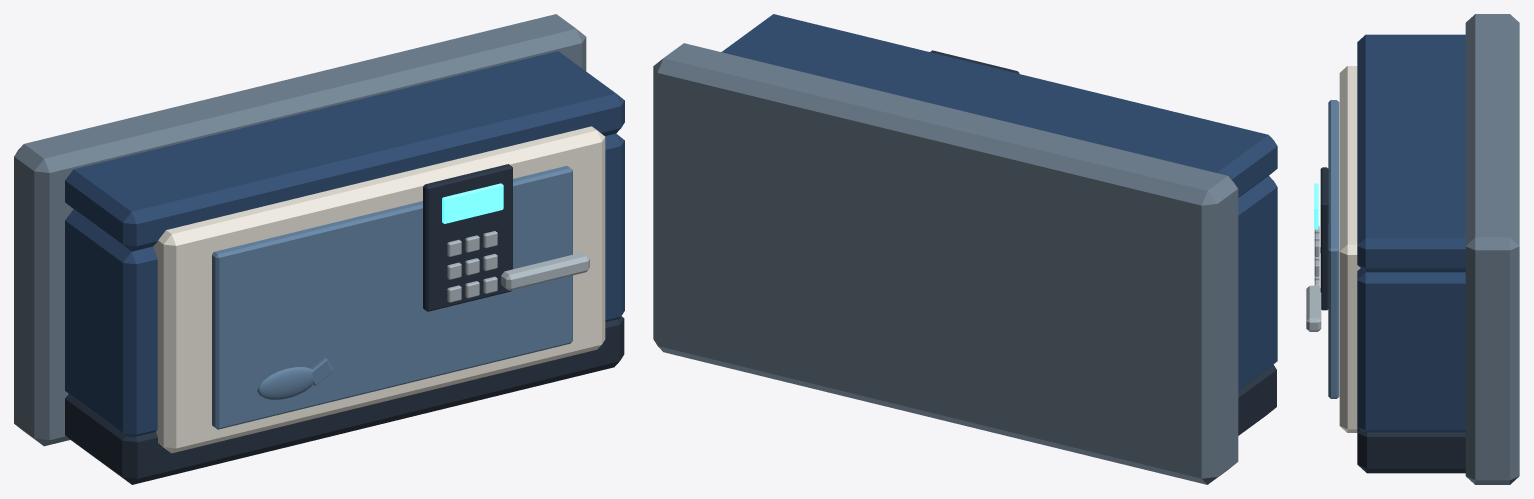
The model's file is safes_10.glb.
3 views of the same model, side by side, from view 1: azimuth 30°, elevation 25°; view 2: azimuth 150°, elevation 25°; view 3: azimuth 270°, elevation 25° (orthographic). The views are drawn at different scales.
Parts seen in each view (by area): view 1: InsetPanel, Top, MountingFrame, DoorPanel, Side (×2), Base, KeypadPanel, Handle, TinyScreen, WhaleBody; view 2: MountingFrame, Top, Side, Base; view 3: Top, MountingFrame, Side, DoorPanel, Base, InsetPanel, KeypadPanel, Handle.
Part boxes in pixels (x1,y1,x2,y2): InsetPanel: [212, 166, 572, 429]; Top: [65, 51, 624, 251]; MountingFrame: [14, 14, 586, 446]; DoorPanel: [153, 126, 605, 453]; Side (×2): [65, 133, 624, 437]; Base: [65, 316, 624, 484]; KeypadPanel: [423, 164, 512, 311]; Handle: [501, 252, 589, 290]; TinyScreen: [442, 183, 503, 223]; WhaleBody: [257, 367, 313, 399]; MountingFrame: [653, 43, 1238, 484]; Top: [721, 14, 1277, 197]; Side: [1238, 176, 1277, 389]; Base: [1238, 364, 1276, 435]; Top: [1357, 34, 1465, 272]; MountingFrame: [1465, 14, 1519, 484]; Side: [1357, 268, 1465, 432]; DoorPanel: [1339, 66, 1360, 432]; Base: [1357, 427, 1465, 473]; InsetPanel: [1328, 100, 1339, 398]; KeypadPanel: [1320, 167, 1328, 310]; Handle: [1306, 285, 1321, 331].
Size of the model in its own units: 1.01 by 0.504 by 0.394.
